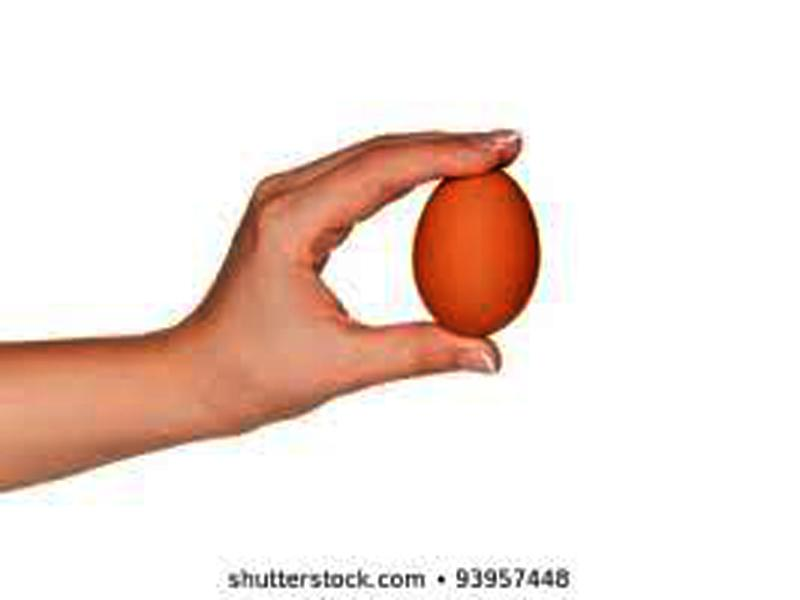Eggs: (415, 158, 538, 338)
